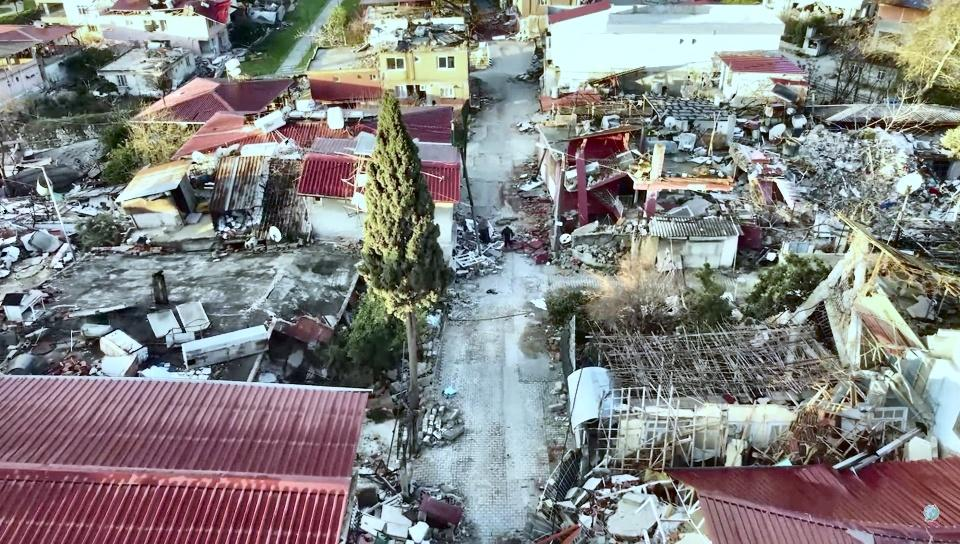kapali: (445, 171, 554, 325)
